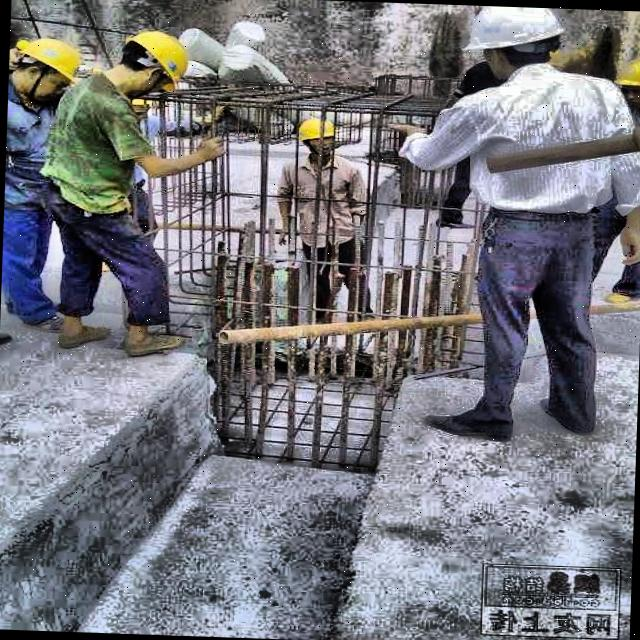helmet: (458, 5, 566, 86), (106, 24, 193, 102), (9, 31, 87, 104), (291, 113, 342, 160), (609, 55, 640, 111)
